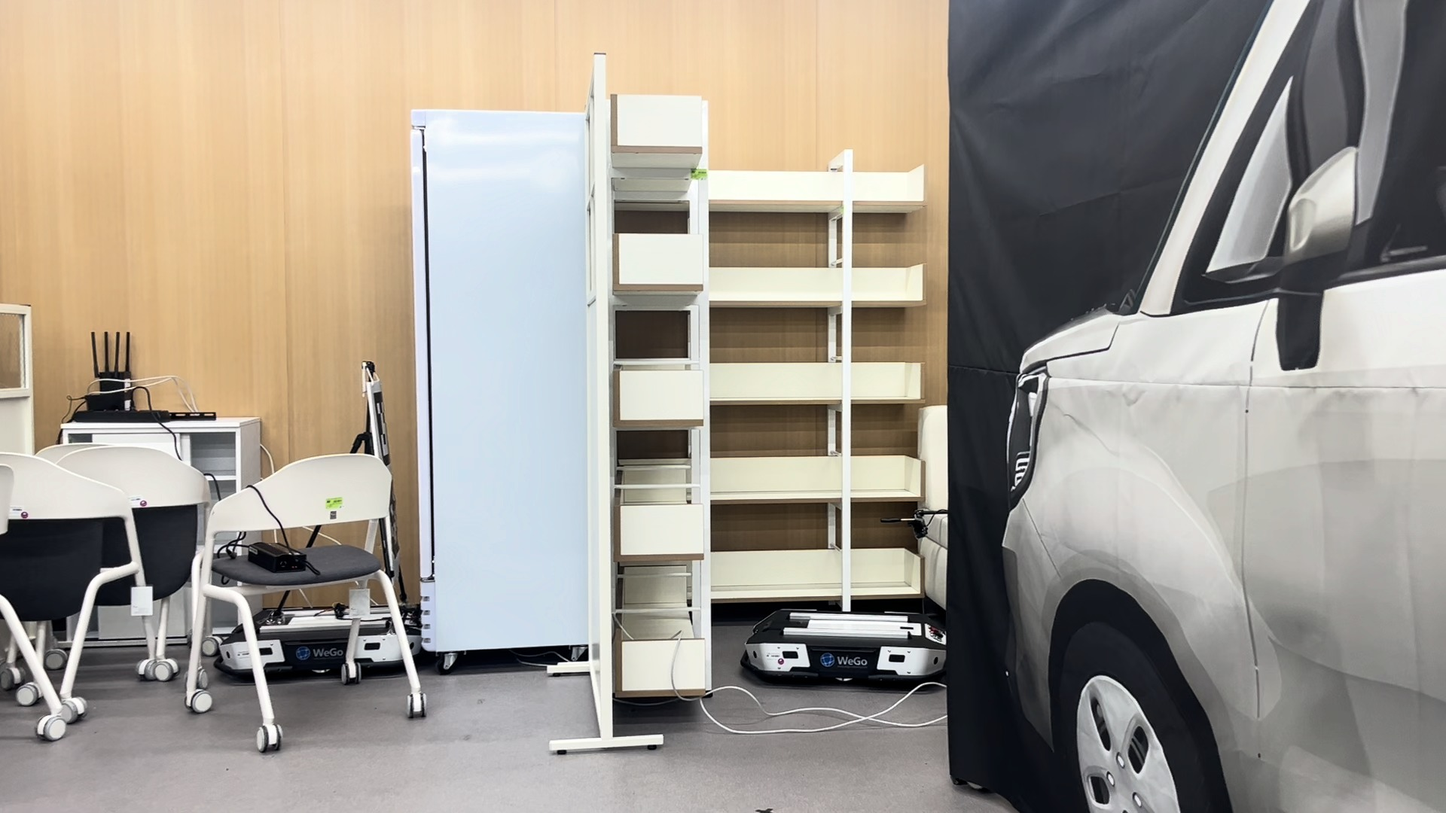side_mirror: (1276, 147, 1356, 370)
